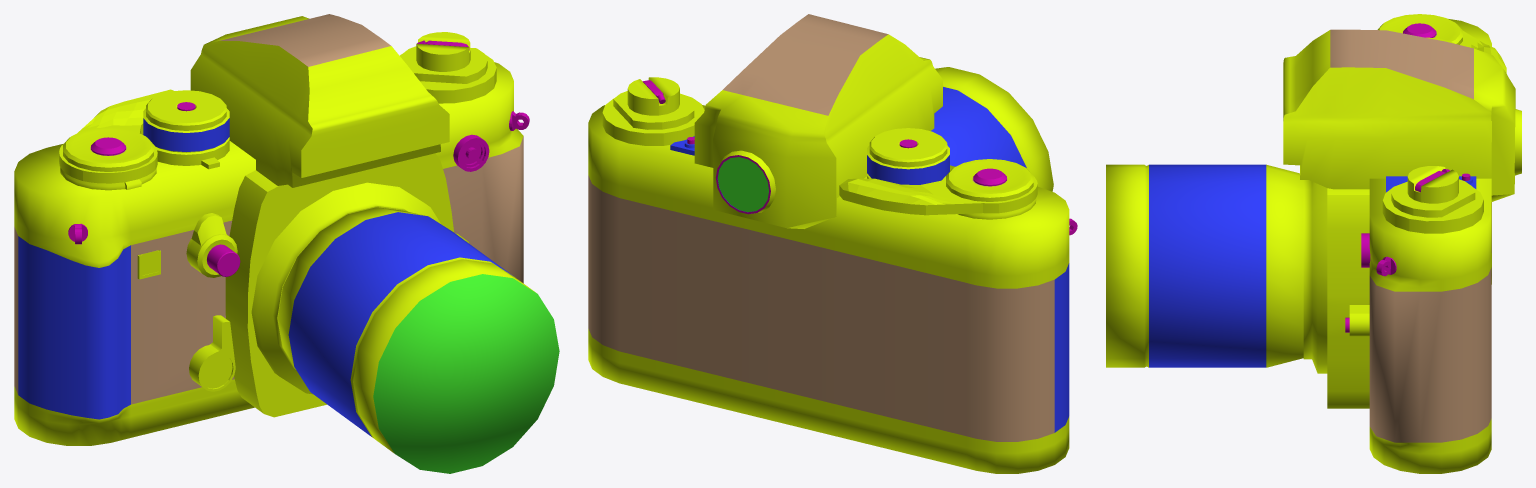
The model's file is Camera_ID.FBX.
The picture shows the model from 3 angles, left to right: view 1: azimuth 30°, elevation 25°; view 2: azimuth 150°, elevation 25°; view 3: azimuth 270°, elevation 25°; orthographic projection. The views are drawn at different scales.
Parts seen in each view (by area): view 1: Body_Low_copy; view 2: Body_Low_copy; view 3: Body_Low_copy.
Boxes of the visible parts, x1=… form: Body_Low_copy: x1=14, y1=14, x2=559, y2=473; Body_Low_copy: x1=588, y1=14, x2=1077, y2=473; Body_Low_copy: x1=1106, y1=14, x2=1521, y2=473.
Size of the model in its own units: 55.77 by 38.69 by 44.09.
